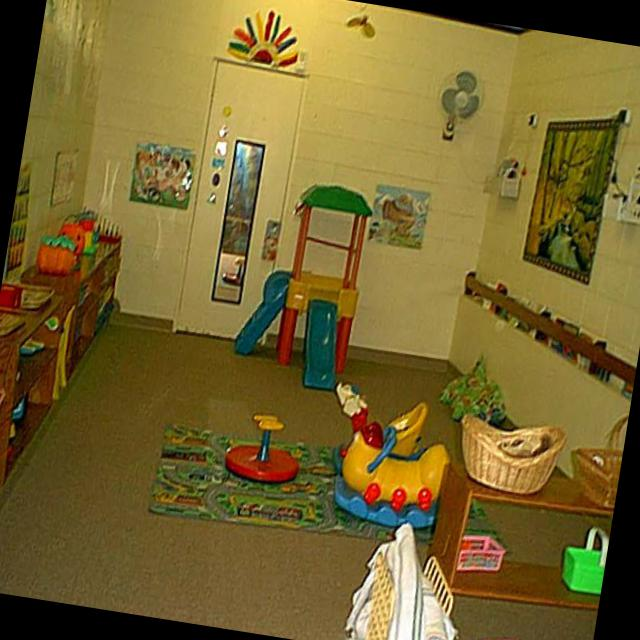basket crop: (463, 414, 568, 494), (563, 525, 610, 591)
ceiling beam: (426, 13, 533, 34)
door bars: (179, 60, 306, 342)
fan lamp: (443, 71, 481, 138)
floor -X: (0, 310, 610, 640)
pane: (213, 140, 265, 302)
picture crop: (523, 118, 621, 282), (131, 140, 197, 207), (370, 183, 433, 247)
shelves crop: (420, 461, 619, 640), (0, 232, 124, 498)
toy crio: (237, 182, 372, 386), (334, 381, 450, 530), (228, 412, 299, 480)
wall clock: (69, 0, 520, 370), (449, 30, 640, 535)
